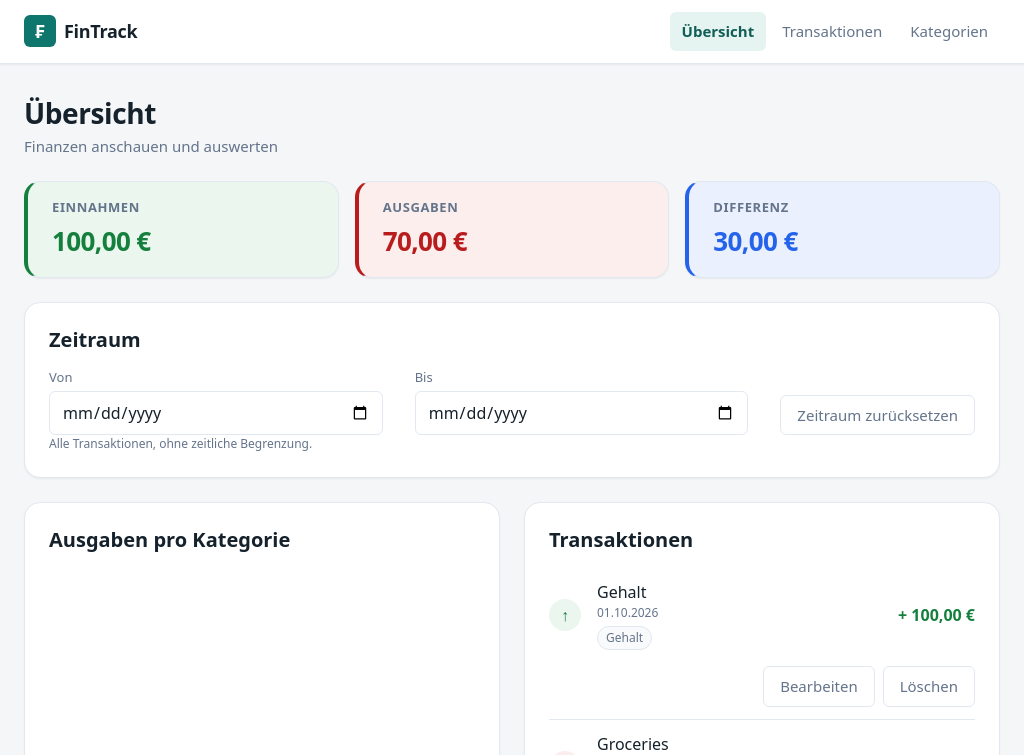
Test case: shared transaction filters › preserves hidden transactions and the filter when an edit moves an entry outside the range
The width and height of the screenshot is (1024, 755).
Type "2026-10-20" into the date field labelled "Von" at point(216, 413), box [49,391,383,435]
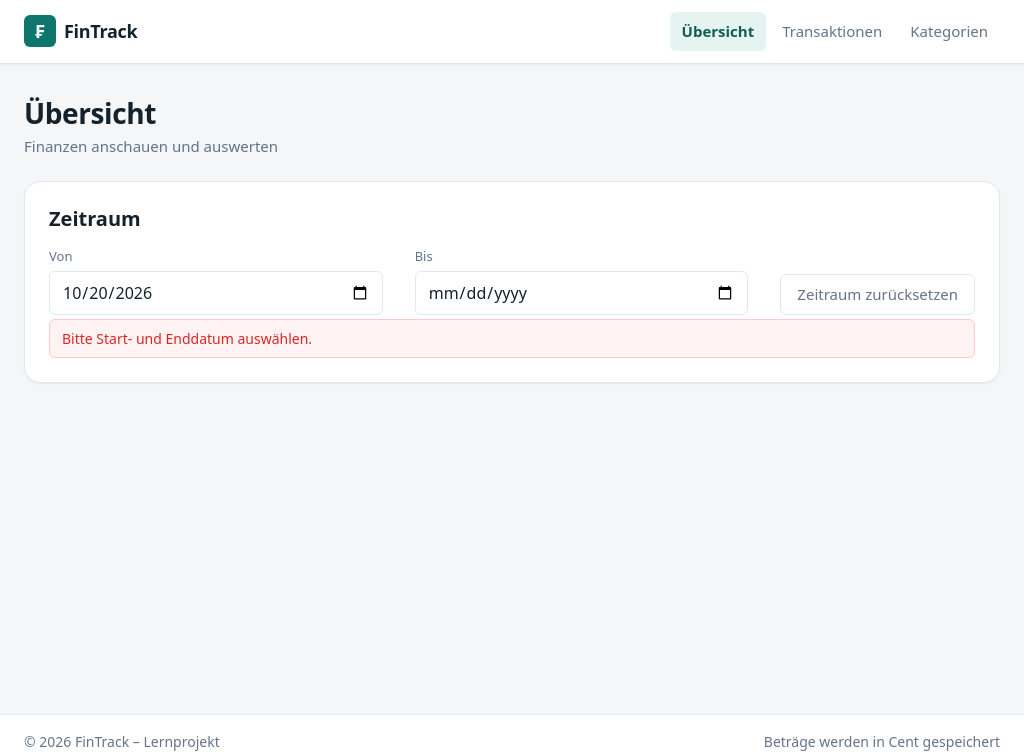
Type "2026-10-20" into the date field labelled "Bis" at point(582, 292), box [415,270,748,314]
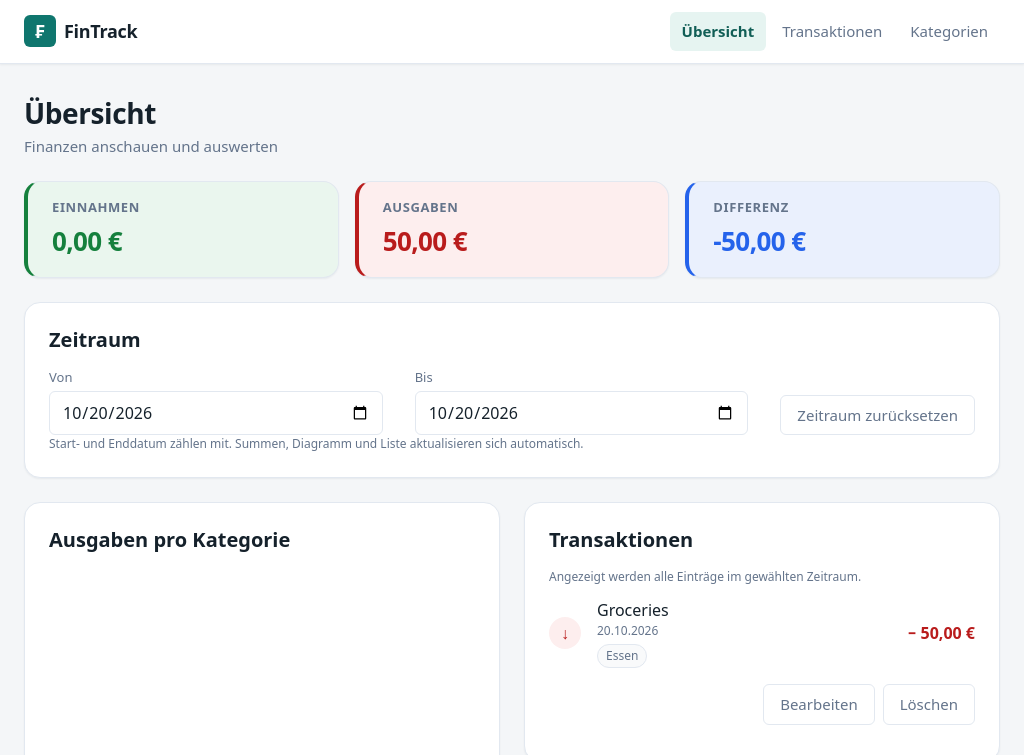
Click the button with aria-label "Groceries vom 20.10.2026, 50,00 € bearbeiten" at point(819, 704), box [763,684,875,724]
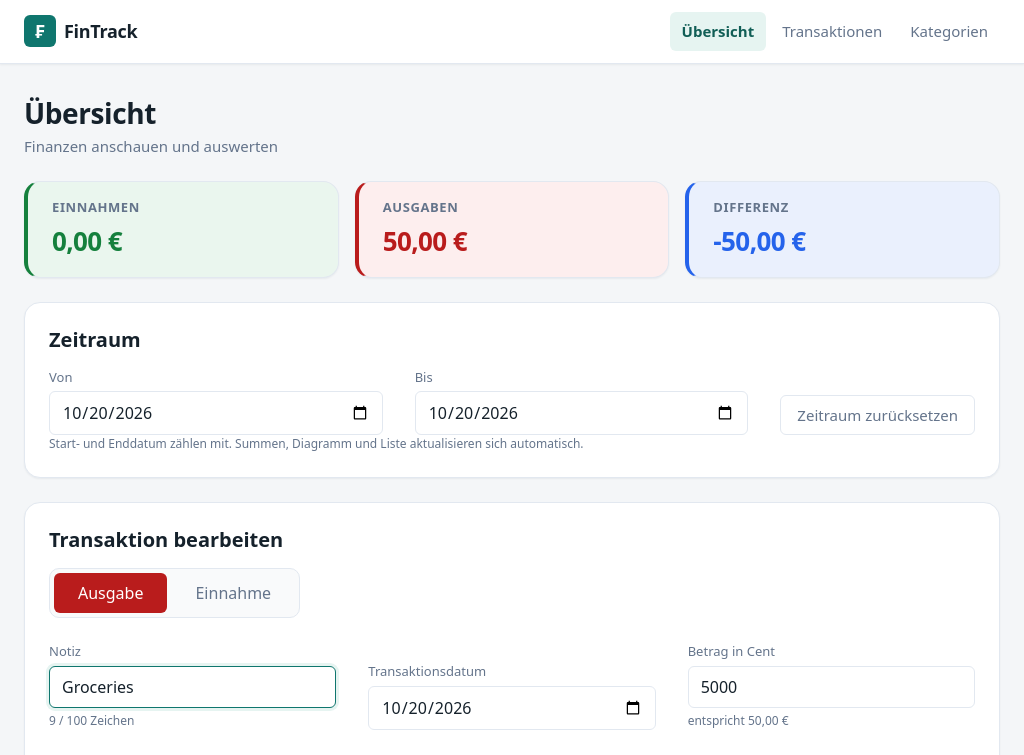
Type "2026-11-01" into the date field labelled "Transaktionsdatum" at point(512, 708), box [368,686,656,730]
(page scrolled)
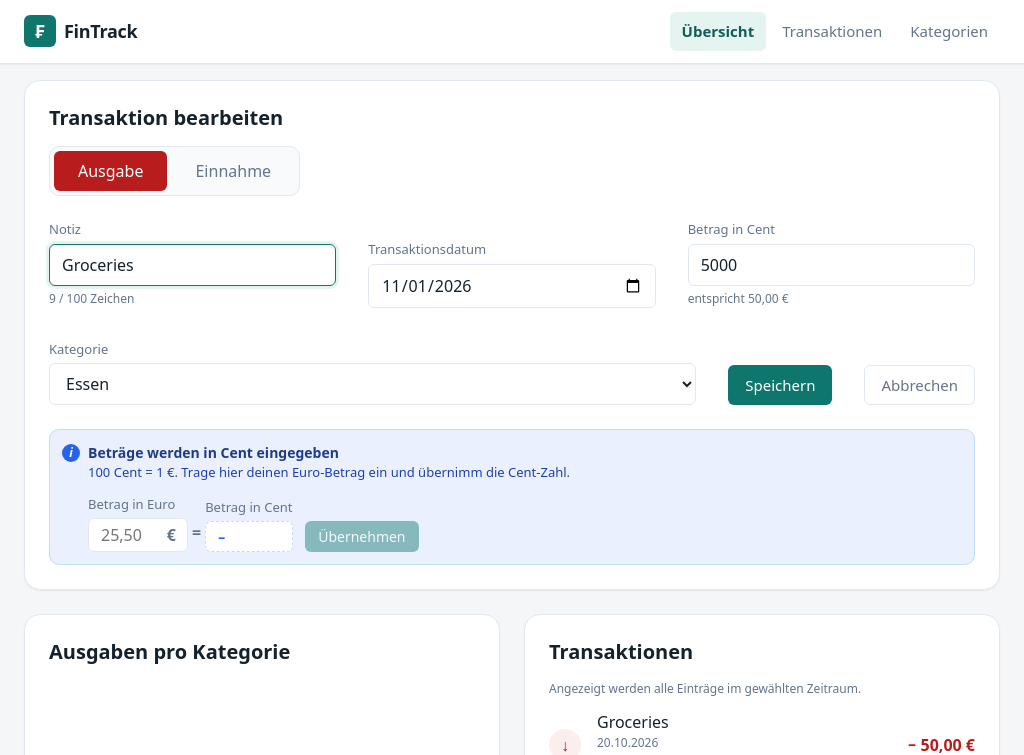
Click the button "Speichern" at point(780, 385), box [728,364,832,405]
(page scrolled)
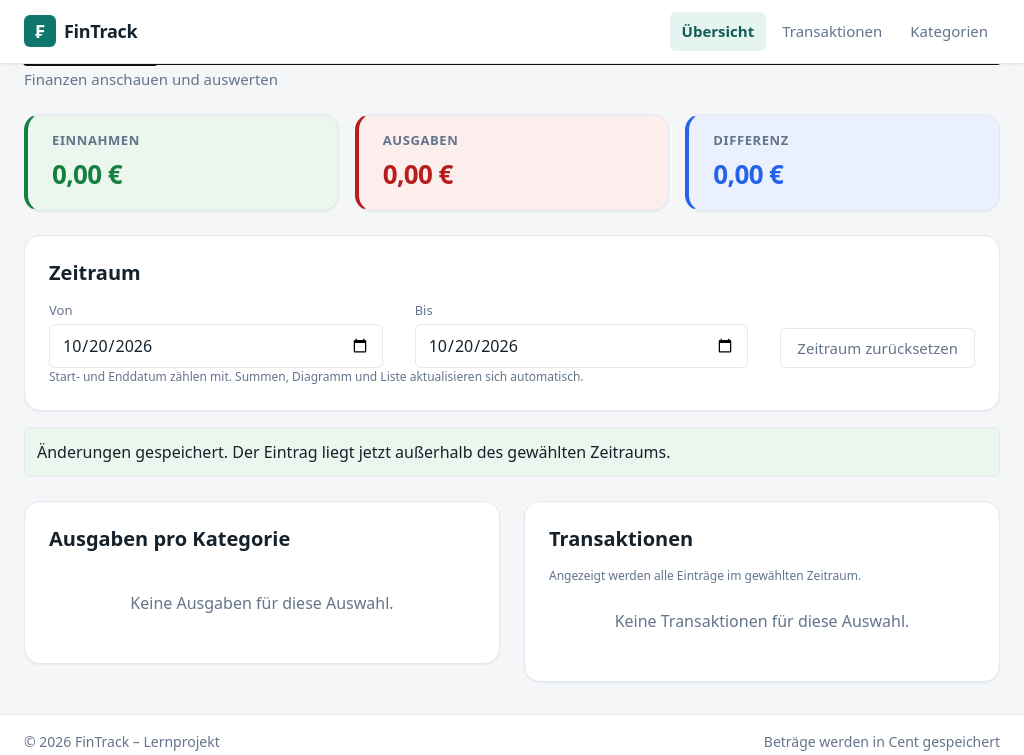
Expected: no list items with class "transaction" are shown
Expected: the message shows "außerhalb des gewählten Zeitraums", [37,441,670,463]
Click the button "Zeitraum zurücksetzen" at point(878, 348), box [780,328,975,368]
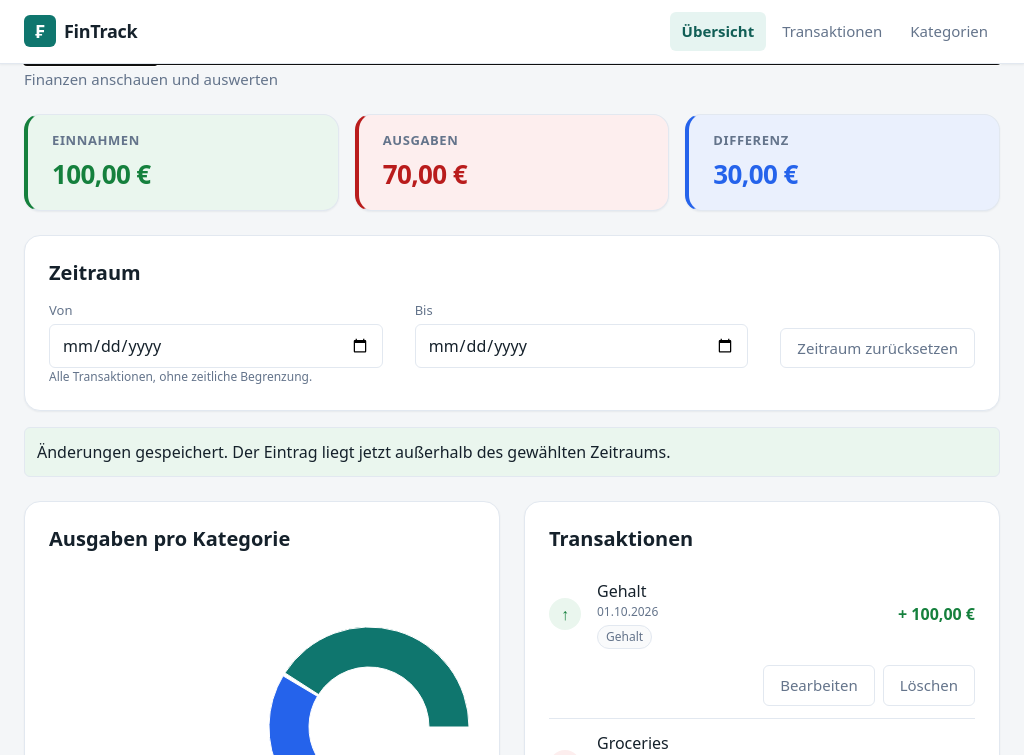
Expected: the number of list items with class "transaction" is 3
Expected: the element with class "stat--income" shows "100,00 €", [52,156,151,192]
